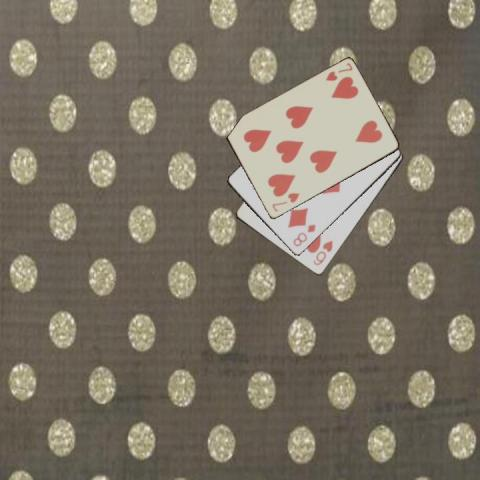6h: (310, 237, 335, 268)
7h: (269, 190, 301, 213), (323, 60, 354, 83)
8d: (290, 221, 317, 249)
